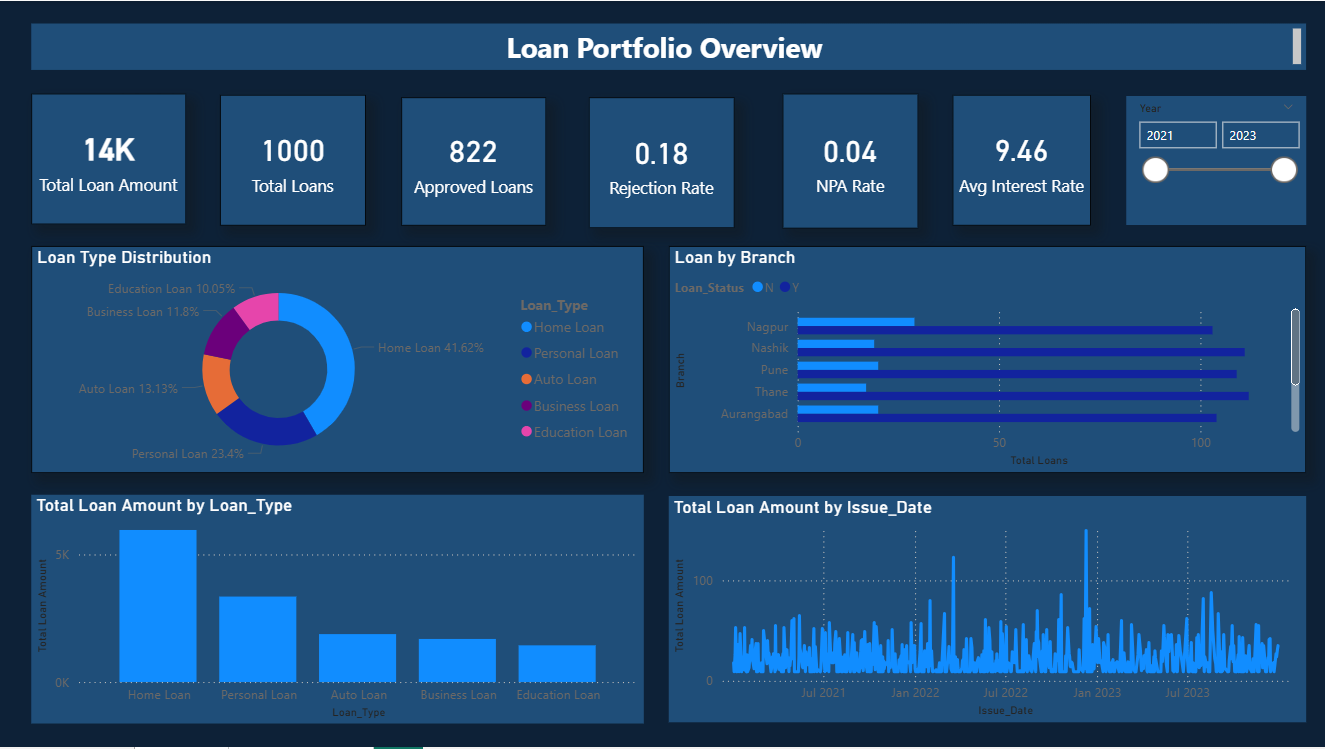

The page's visual inventory and layout, read from the dashboard file:
{"tool":"powerbi","page":{"name":"Page 1","canvas":[1280,720],"ordinal":0},"visuals":[{"type":"card","fields":{"Values":["DateDim.Total Loan Amount"]},"box":[30.2,89.3,149.6,126.7],"z":0},{"type":"card","fields":{"Values":["DateDim.Total Loans"]},"box":[212.3,90.5,141.2,126.7],"z":1000},{"type":"card","fields":{"Values":["DateDim.Approved Loans"]},"box":[387.3,92.9,139.9,124.3],"z":2000},{"type":"card","fields":{"Values":["DateDim.Rejection Rate"]},"box":[568.2,92.9,141.2,126.7],"z":3000},{"type":"card","fields":{"Values":["DateDim.NPA Rate"]},"box":[755.2,89.3,131.5,130.3],"z":4000},{"type":"card","fields":{"Values":["DateDim.Avg Interest Rate"]},"box":[919.3,90.5,133.9,126.7],"z":5000},{"type":"donutChart","title":"Loan Type Distribution","fields":{"Category":["loan_portfolio_data (1).Loan_Type"],"Y":["DateDim.Total Loan Amount"]},"box":[30.2,236.5,591.2,219.6],"z":6000},{"type":"lineChart","fields":{"Category":["loan_portfolio_data (1).Issue_Date"],"Y":["DateDim.Total Loan Amount"]},"box":[645.4,477.8,615.3,218.4],"z":7000},{"type":"clusteredBarChart","title":"Loan by Branch","fields":{"Category":["loan_portfolio_data (1).Branch"],"Y":["DateDim.Total Loans"],"Series":["loan_portfolio_data (1).Loan_Status"]},"box":[645.4,236.5,615.3,219.6],"z":8000},{"type":"clusteredColumnChart","fields":{"Category":["loan_portfolio_data (1).Loan_Type"],"Y":["DateDim.Total Loan Amount"]},"box":[30.2,476.5,591.2,220.8],"z":9000},{"type":"slicer","fields":{"Values":["DateDim.Year"]},"box":[1087,91.7,173.7,124.3],"z":10000},{"type":"textbox","box":[30.2,21.7,1230.6,44.6],"z":11000}]}

Visuals, with their boxes in screenshot pixels (x1, y1, x2, y2), scaled from the page's 1280x720 canvas onto the 1325x749 screenshot:
card - DateDim.Total Loan Amount: 31,93,186,225
card - DateDim.Total Loans: 220,94,366,226
card - DateDim.Approved Loans: 401,97,546,226
card - DateDim.Rejection Rate: 588,97,734,228
card - DateDim.NPA Rate: 782,93,918,228
card - DateDim.Avg Interest Rate: 952,94,1090,226
"Loan Type Distribution" donutChart: 31,246,643,474
lineChart - loan_portfolio_data (1).Issue_Date x DateDim.Total Loan Amount: 668,497,1305,724
"Loan by Branch" clusteredBarChart: 668,246,1305,474
clusteredColumnChart - loan_portfolio_data (1).Loan_Type x DateDim.Total Loan Amount: 31,496,643,725
slicer - DateDim.Year: 1125,95,1305,225
textbox: 31,23,1305,69
